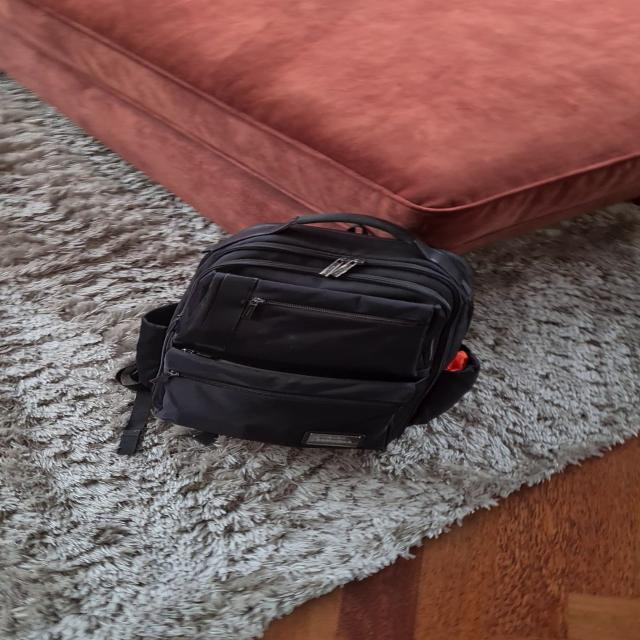backpack: (120, 206, 497, 458)
